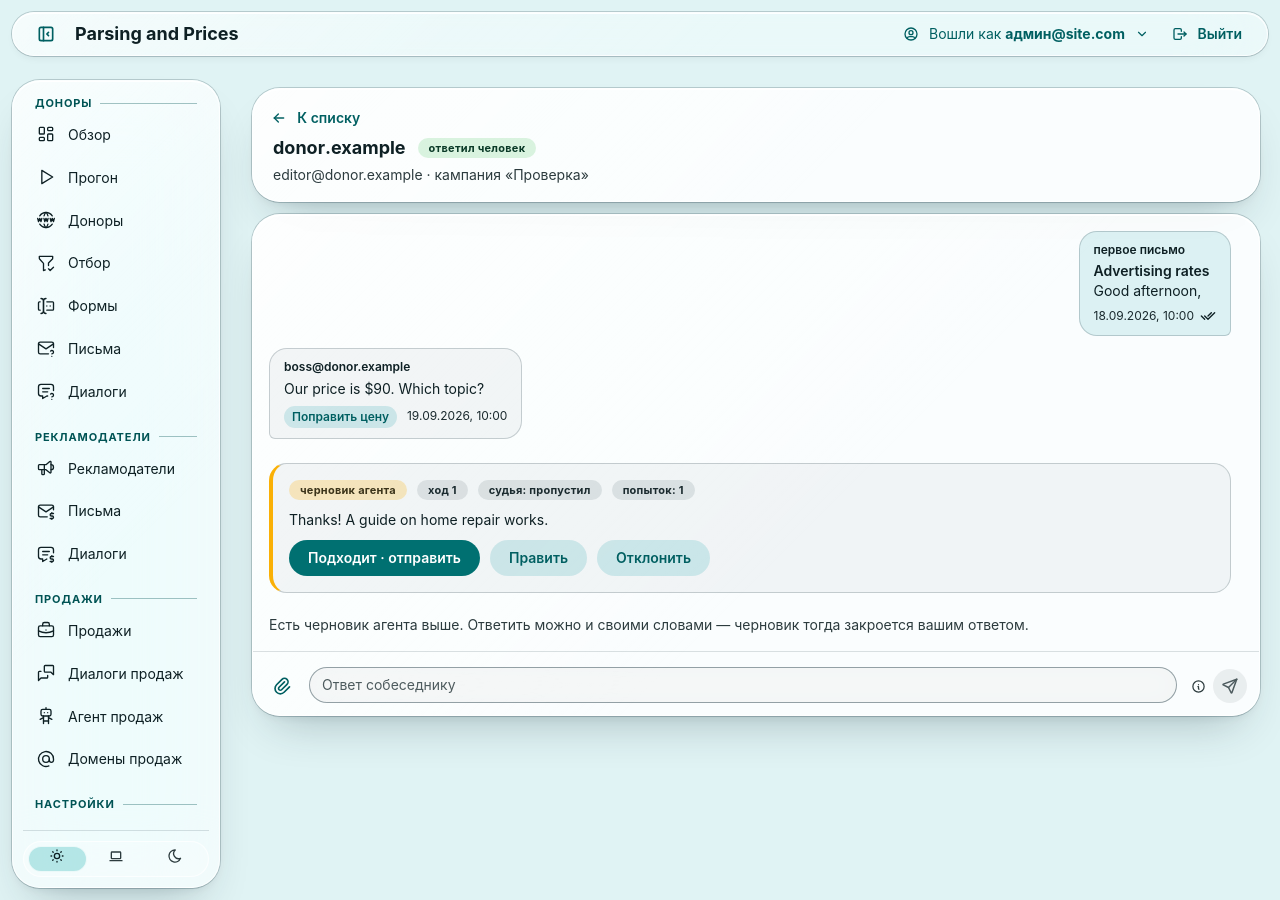
Test: плашка черновика агента › устаревший черновик: отказ сервера словами, черновик на месте
The width and height of the screenshot is (1280, 900).
Expected: the heading "donor.example" is shown, x1=273 y1=135 x2=406 y2=161
Click the button "Подходит · отправить". click: x=384, y=558
box: x1=289 y1=540 x2=480 y2=576
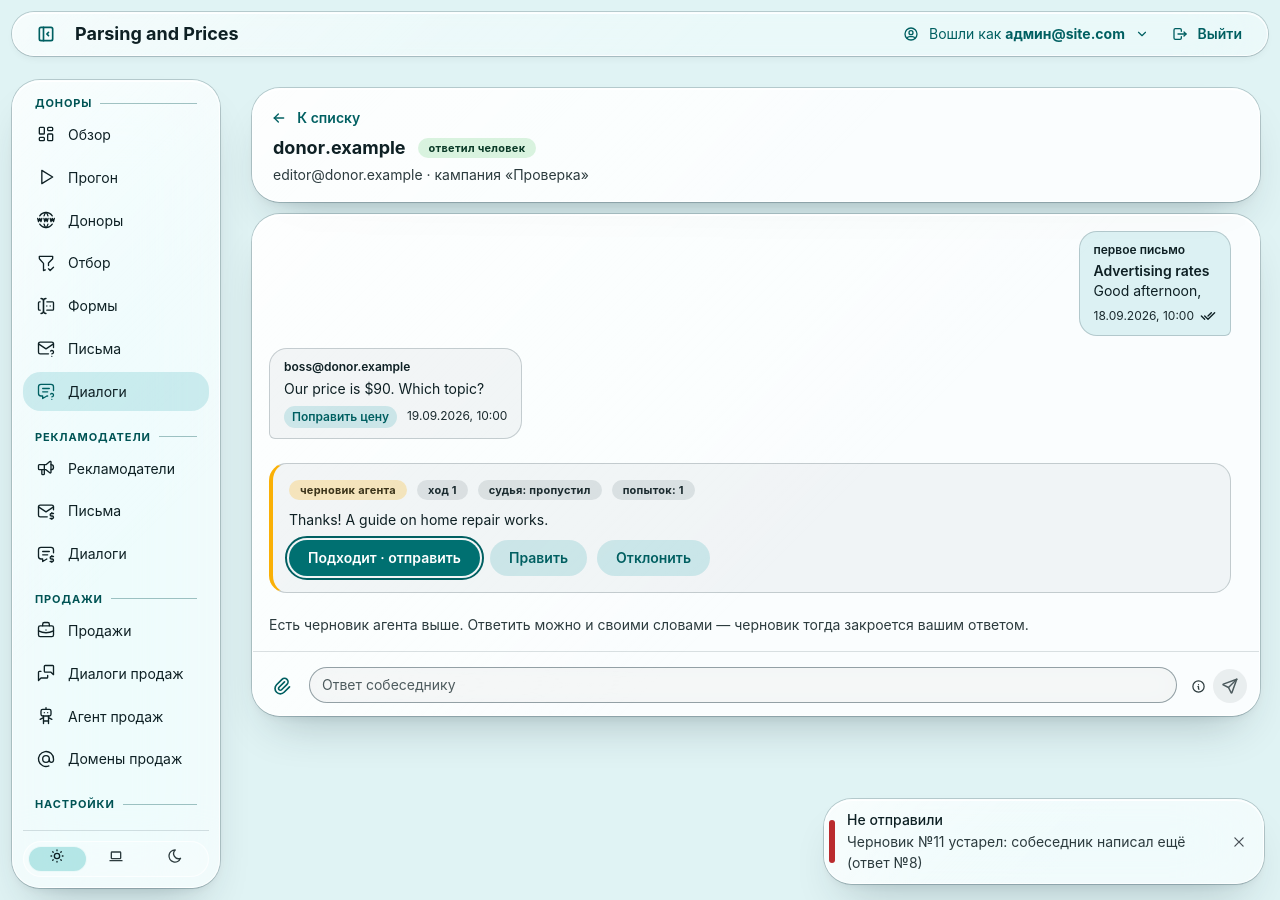
Expected: the element "черновик агента" is shown, x1=269 y1=463 x2=1231 y2=593
Expected: the text "Черновик №11 устарел: собеседник написал ещё (ответ №8)" is shown, x1=847 y1=832 x2=1215 y2=873
